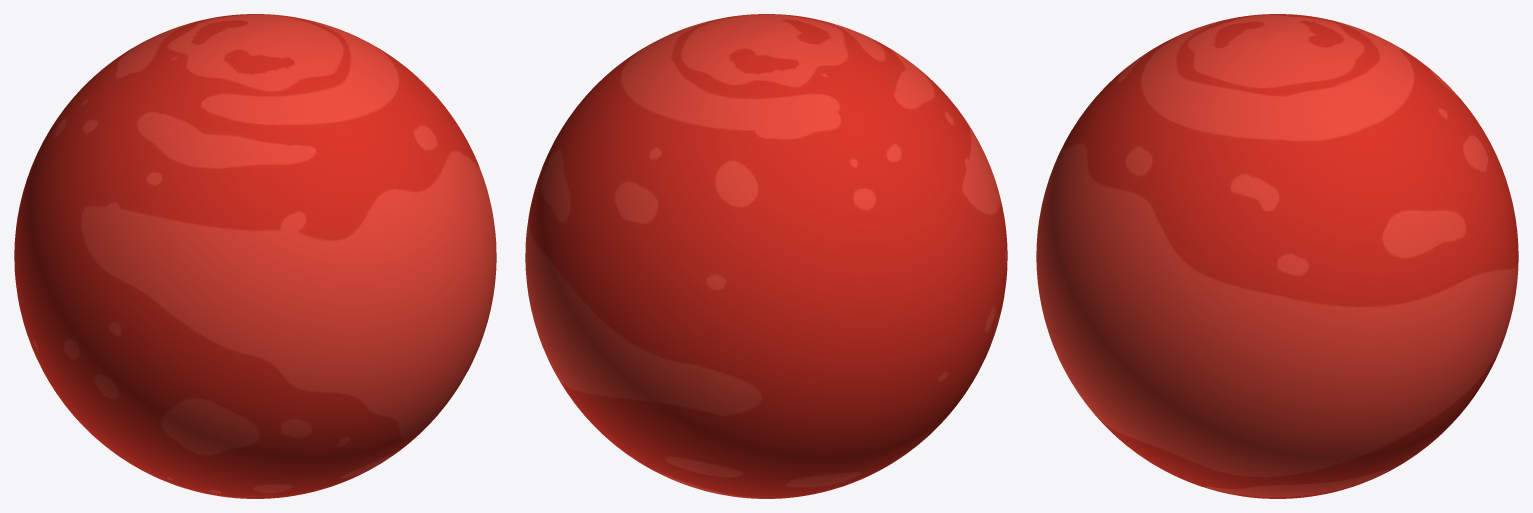
The model's file is red_pic.glb.
3 views of the same model, side by side, from view 1: azimuth 30°, elevation 25°; view 2: azimuth 150°, elevation 25°; view 3: azimuth 270°, elevation 25° (orthographic).
Visible parts, largest first — view 1: red pic; view 2: red pic; view 3: red pic.
Boxes of the visible parts, x1,y1,x2,y2 form: red pic: (14,14,496,498); red pic: (525,14,1007,498); red pic: (1036,14,1518,498).
Bounding box in the file's own units: 0.9852 × 0.9965 × 0.9852.
Materials: 1 (1 with a texture image).
